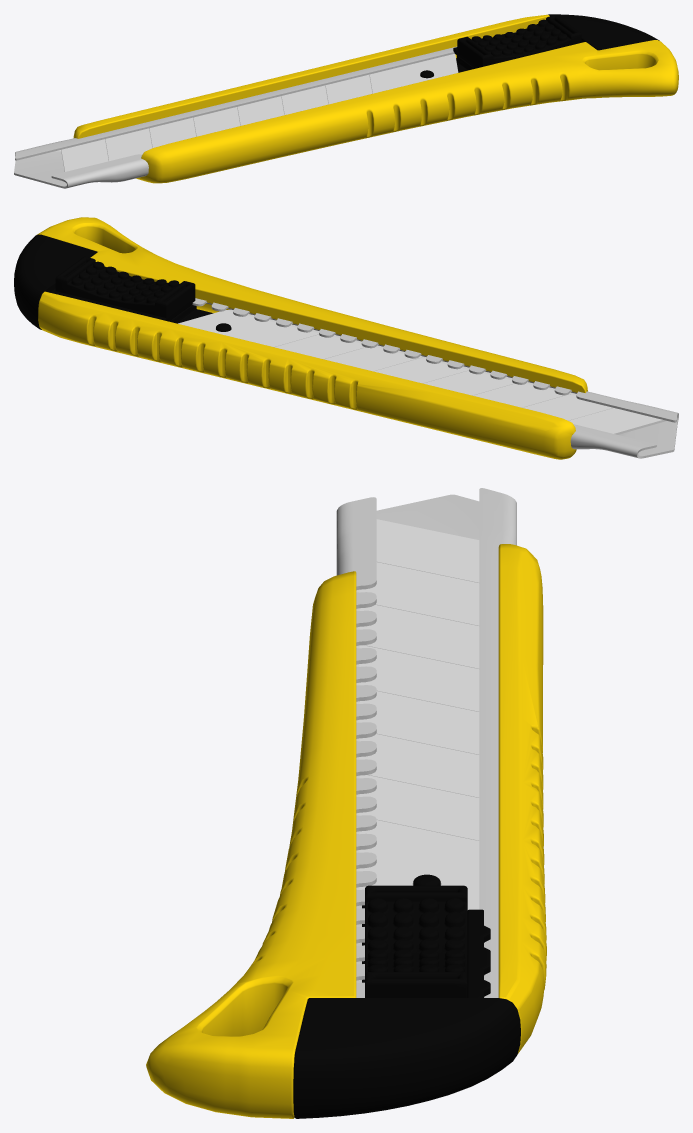
File: pisau cutter.fbx
The picture shows the model from 3 angles, top to bottom: view 1: azimuth 30°, elevation 25°; view 2: azimuth 150°, elevation 25°; view 3: azimuth 270°, elevation 25°; orthographic projection. The views are drawn at different scales.
Parts seen in each view (by area): view 1: Cube.007, Cube.003; view 2: Cube.007, Cube.003; view 3: Cube.007, Cube.003.
Boxes of the visible parts, x1,y1,x2,y2 form: Cube.007: [14, 14, 678, 188]; Cube.003: [548, 14, 659, 50]; Cube.007: [37, 217, 678, 459]; Cube.003: [14, 234, 97, 329]; Cube.007: [146, 488, 546, 1118]; Cube.003: [293, 998, 520, 1118].
Bounding box in the file's own units: 19.91 × 1.3 × 5.67.
